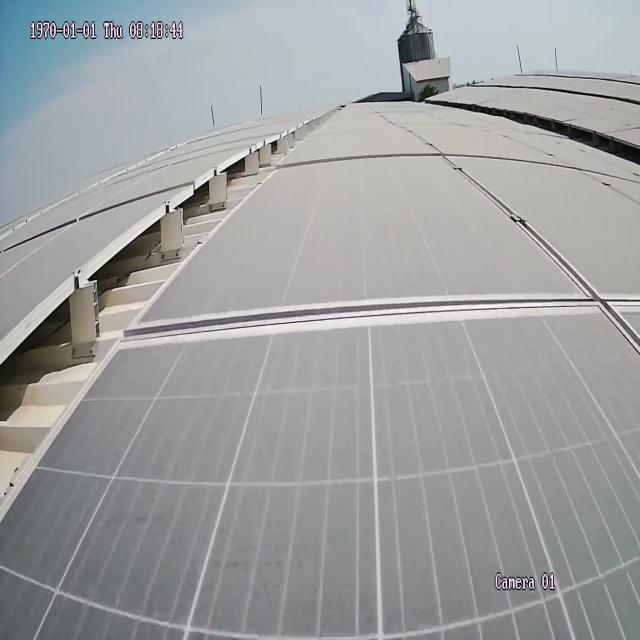interior panel: (142, 162, 640, 368)
outher panel: (1, 110, 337, 505), (466, 103, 638, 170)
